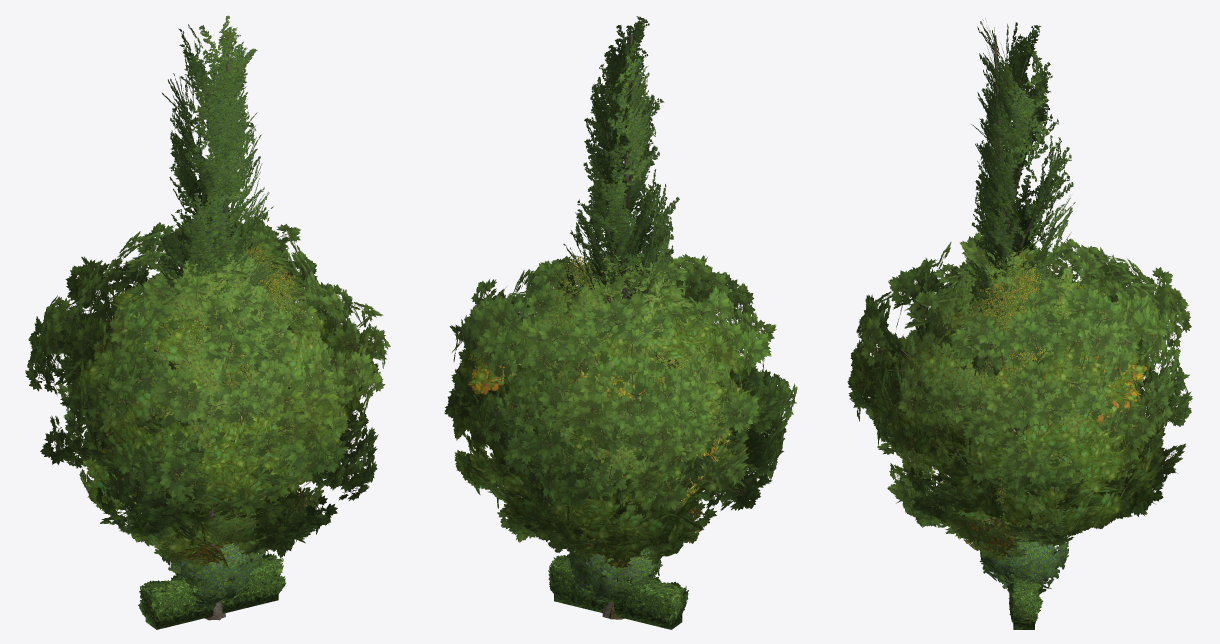
The model's file is trees.glb.
3 views of the same model, side by side, from view 1: azimuth 30°, elevation 25°; view 2: azimuth 150°, elevation 25°; view 3: azimuth 270°, elevation 25° (orthographic). The views are drawn at different scales.
Parts seen in each view (by area): view 1: tree_chestnut, tree_poplar, tree_maple, tree_linden, hedge_long, bush_lilac, tree_birch; view 2: tree_chestnut, tree_poplar, tree_maple, tree_linden, hedge_long, bush_lilac, tree_birch; view 3: tree_chestnut, tree_maple, tree_poplar, tree_linden, tree_birch, bush_lilac, hedge_long.
Part boxes in pixels (x1,y1,x2,y2): tree_chestnut: (25,213,390,620); tree_poplar: (152,15,276,620); tree_maple: (72,272,360,557); tree_linden: (84,244,335,569); hedge_long: (138,552,285,629); bush_lilac: (162,542,262,616); tree_birch: (113,239,308,545); tree_chestnut: (444,243,797,619); tree_poplar: (556,16,679,619); tree_maple: (448,304,757,564); tree_linden: (501,247,739,567); hedge_long: (548,554,688,629); bush_lilac: (569,547,663,612); tree_birch: (503,250,697,554); tree_chestnut: (847,232,1192,550); tree_maple: (872,276,1166,538); tree_poplar: (962,19,1079,604); tree_linden: (909,245,1144,563); tree_birch: (922,251,1106,546); bush_lilac: (979,527,1068,598); hedge_long: (1007,574,1043,629).
Size of what is drawn, in the model's own units: 10.31 by 18.11 by 10.29.
Materials: 2 (2 with a texture image).
